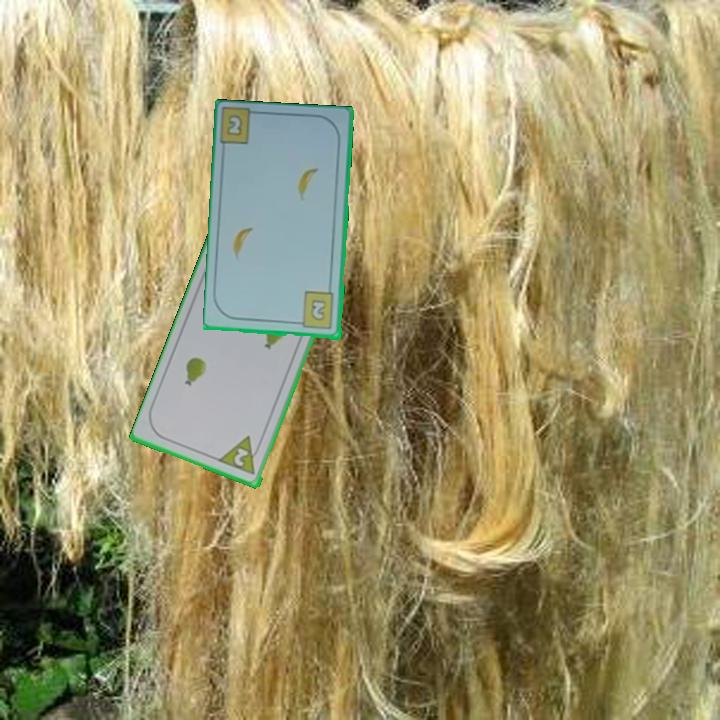2b: (293, 289, 337, 332), (224, 111, 245, 139)
2p: (217, 433, 265, 479)
